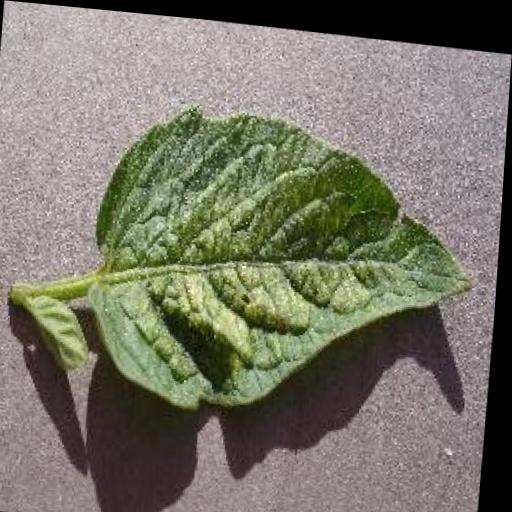Spider Mites: (88, 91, 491, 426)
